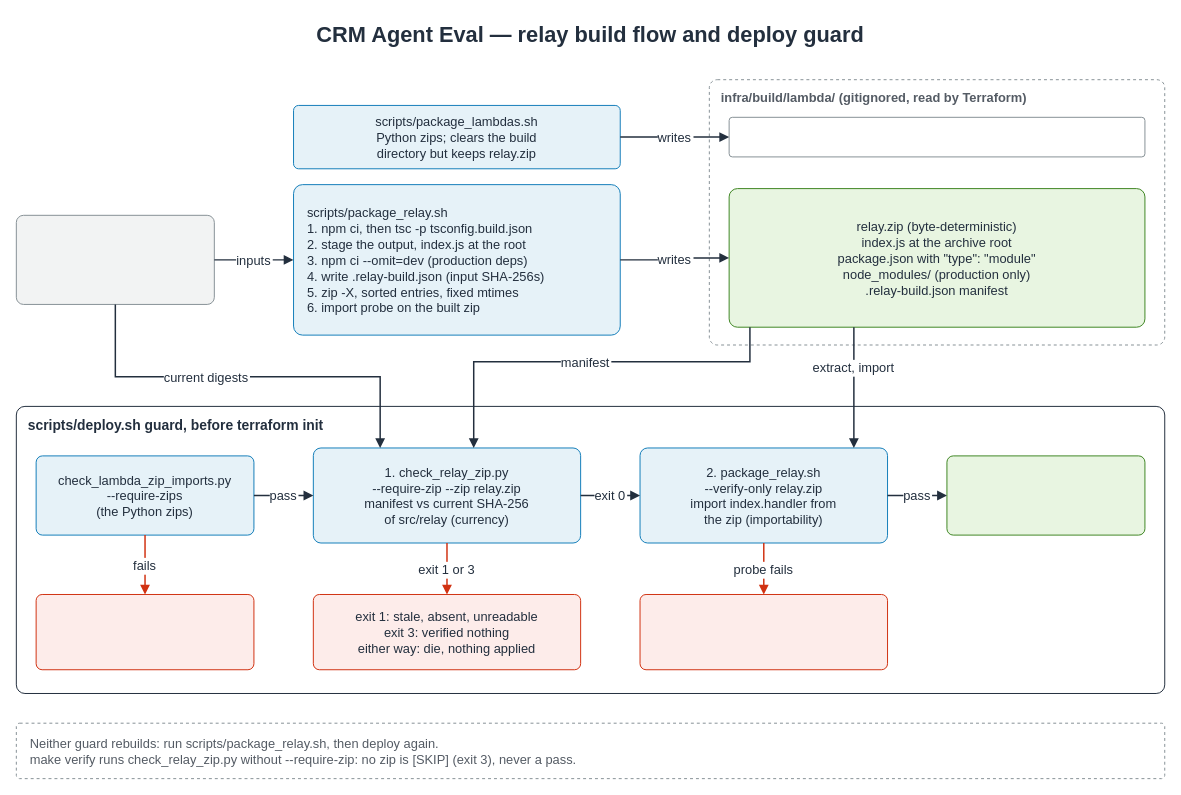
Some shapes in this 1181 by 795 pixel diagram are drawn without their labels. Here are the shapes that lost their labels. From the top down, the centre of each, then its label:
(936,136): Python Lambda zips
(114,259): src/relay/ TypeScript sources, package.json, lockfile, tsconfig files
(1045,495): terraform init, then apply
(144,632): die: Python zips stale or missing nothing applied
(763,632): die: handler cannot be imported from the zip nothing applied
